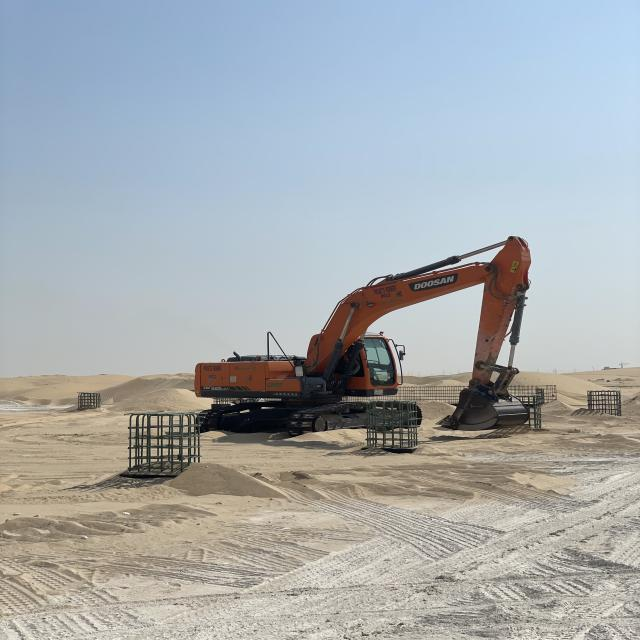Excavator: (190, 228, 532, 457)
